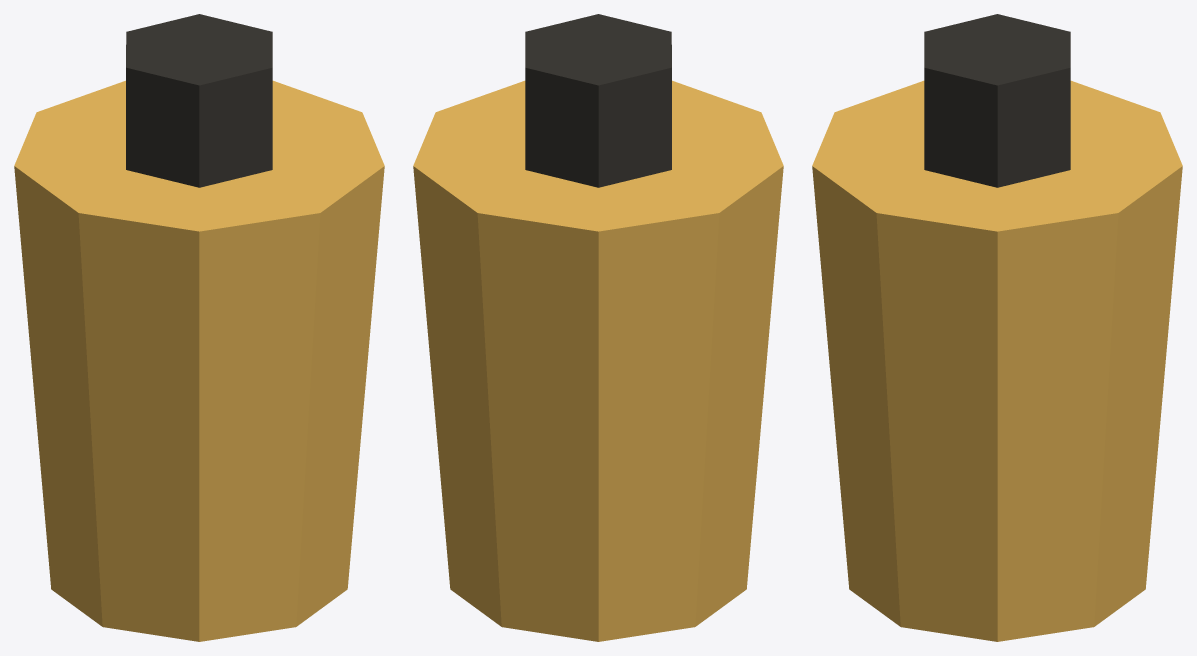
Rendered from r03-desert-dunes__estus_flask.obj.
3 views of the same model, side by side, from view 1: azimuth 30°, elevation 25°; view 2: azimuth 150°, elevation 25°; view 3: azimuth 270°, elevation 25° (orthographic).
Parts seen in each view (by area): view 1: estus_glass, estus_cap; view 2: estus_glass, estus_cap; view 3: estus_glass, estus_cap.
Part boxes in pixels (x1,y1,x2,y2): estus_glass: (14,80,384,641); estus_cap: (126,14,272,187); estus_glass: (413,80,783,641); estus_cap: (525,14,671,187); estus_glass: (812,80,1182,641); estus_cap: (924,14,1070,187).
Bounding box in the file's own units: 0.3879 × 0.62 × 0.394.
